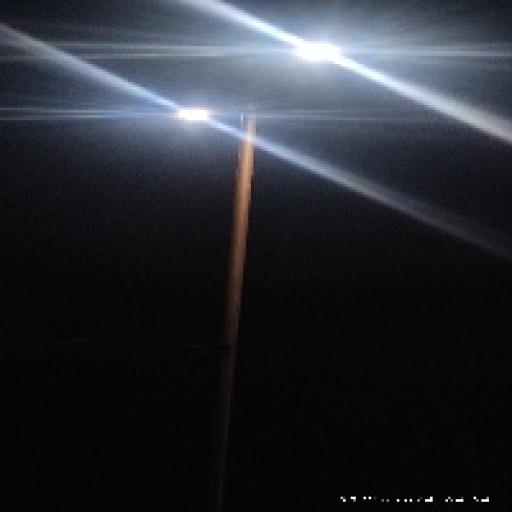Working: (288, 34, 351, 74), (164, 102, 226, 132)
